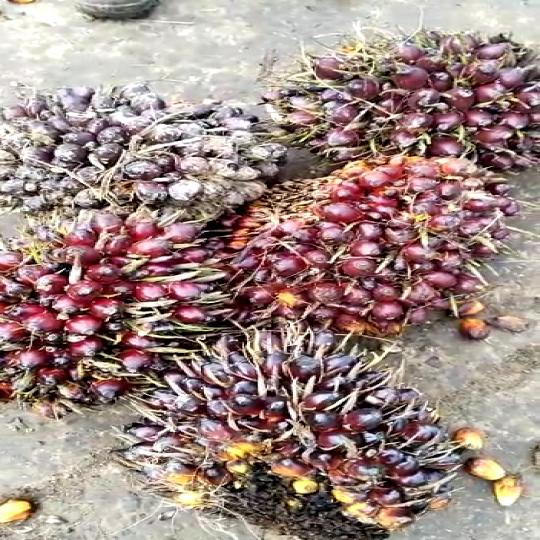kurang masak: (136, 331, 461, 540), (0, 196, 239, 433), (214, 142, 510, 331), (271, 21, 540, 196), (0, 82, 282, 226)
